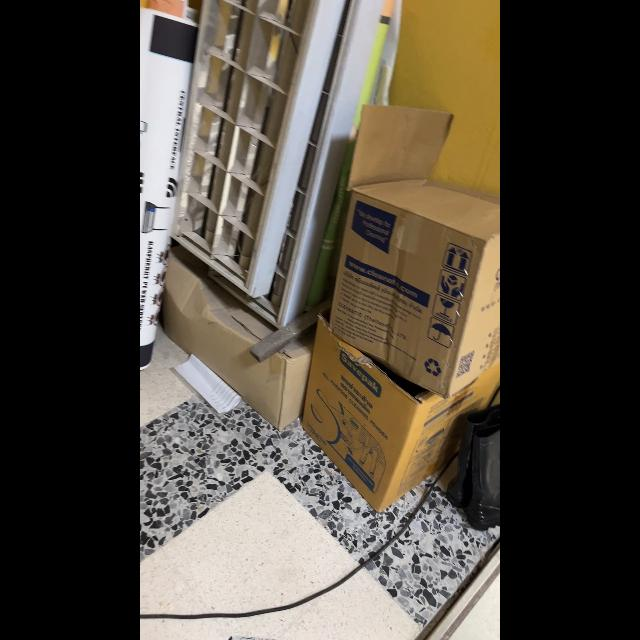cardboard_box: (330, 101, 500, 397)
